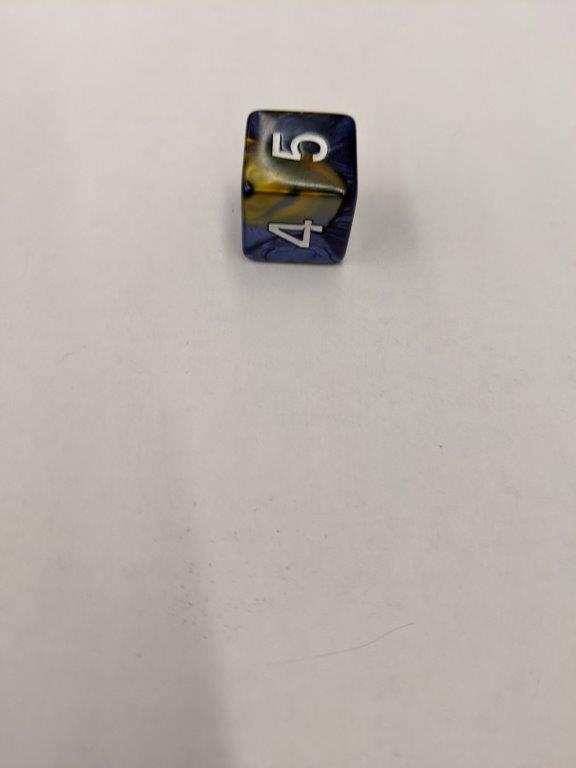d6-5: (238, 108, 357, 264)
